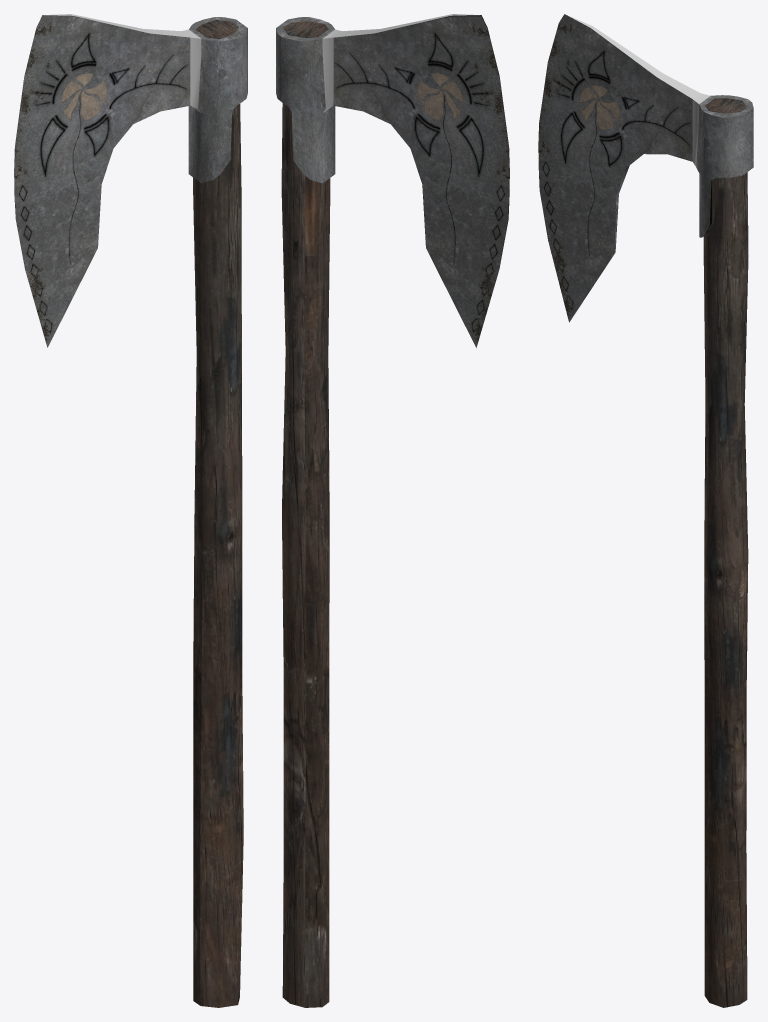
File: axe.fbx
3 views of the same model, side by side, from view 1: azimuth 30°, elevation 25°; view 2: azimuth 150°, elevation 25°; view 3: azimuth 330°, elevation 25° (orthographic). The views are drawn at different scales.
Parts seen in each view (by area): view 1: Cylinder, Cube; view 2: Cylinder, Cube; view 3: Cylinder, Cube.
Boxes of the visible parts, x1,y1,x2,y2 form: Cylinder: (193, 20, 243, 1007); Cube: (14, 14, 247, 347); Cylinder: (281, 21, 330, 1007); Cube: (276, 14, 509, 347); Cylinder: (703, 98, 748, 1007); Cube: (538, 14, 753, 322).
Size of the model in its own units: 1.15 by 4.94 by 0.2631.
